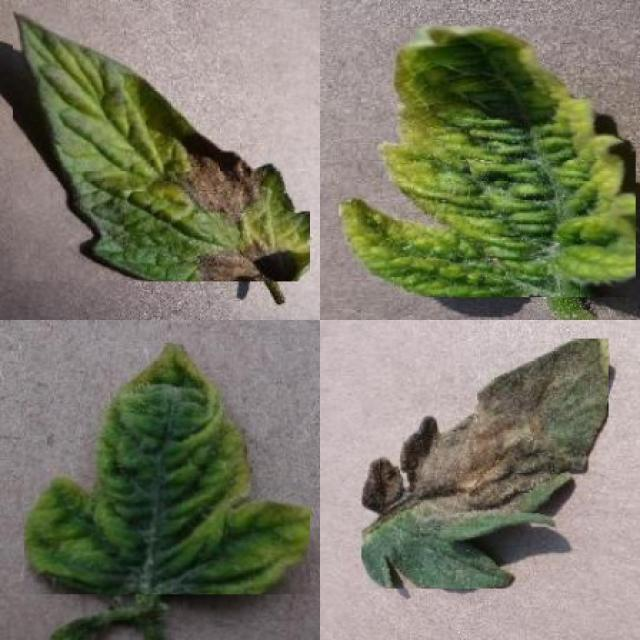Late Blight: (13, 8, 310, 282), (362, 338, 608, 588)
Yellow Leaf Curl Virus: (339, 26, 636, 297), (25, 344, 311, 594)
